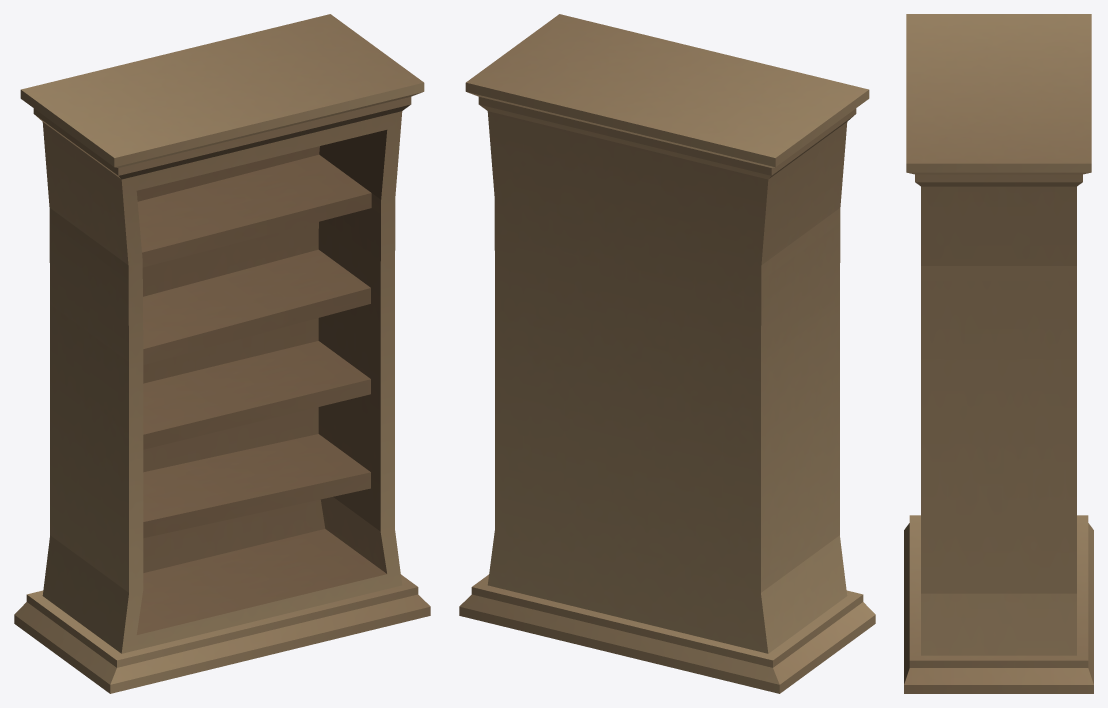
The model's file is bookshelf_1a.glb.
The picture shows the model from 3 angles, left to right: view 1: azimuth 30°, elevation 25°; view 2: azimuth 150°, elevation 25°; view 3: azimuth 270°, elevation 25°; orthographic projection.
Visible parts, largest first — view 1: bookshelf_1a; view 2: bookshelf_1a; view 3: bookshelf_1a.
Boxes of the visible parts, bbox=[...] form: bookshelf_1a: bbox=[14, 14, 430, 693]; bookshelf_1a: bbox=[459, 14, 875, 693]; bookshelf_1a: bbox=[904, 14, 1093, 693].
Size of the model in its own units: 1.1 by 1.75 by 0.5691.
Materials: 1 (1 with a texture image).
